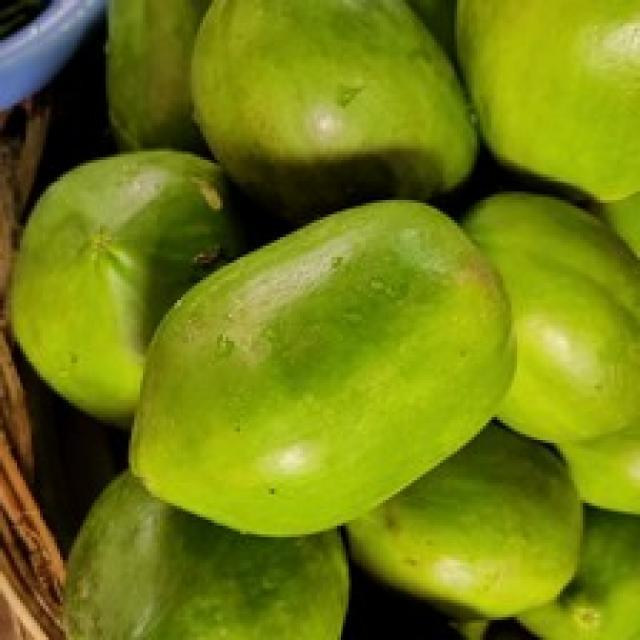Pepaya unrippen: (106, 206, 531, 538)
